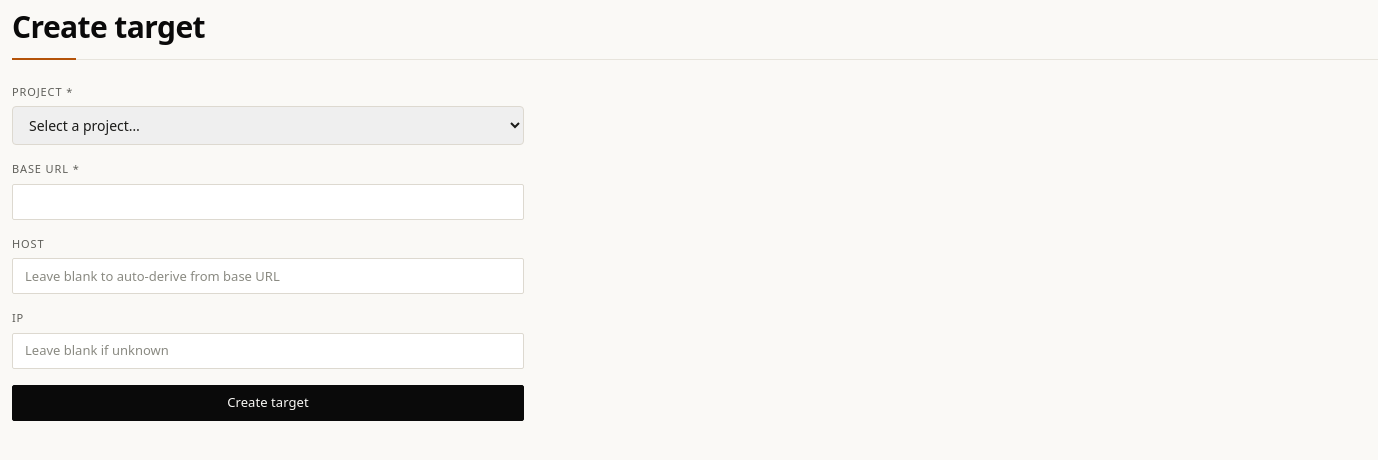
Scenario: CreateTarget — server errors › renders a server field error on the project field
Select "Local Lab" in the dropdown labelled "Project *" at (268,126), box [12,106,524,145]
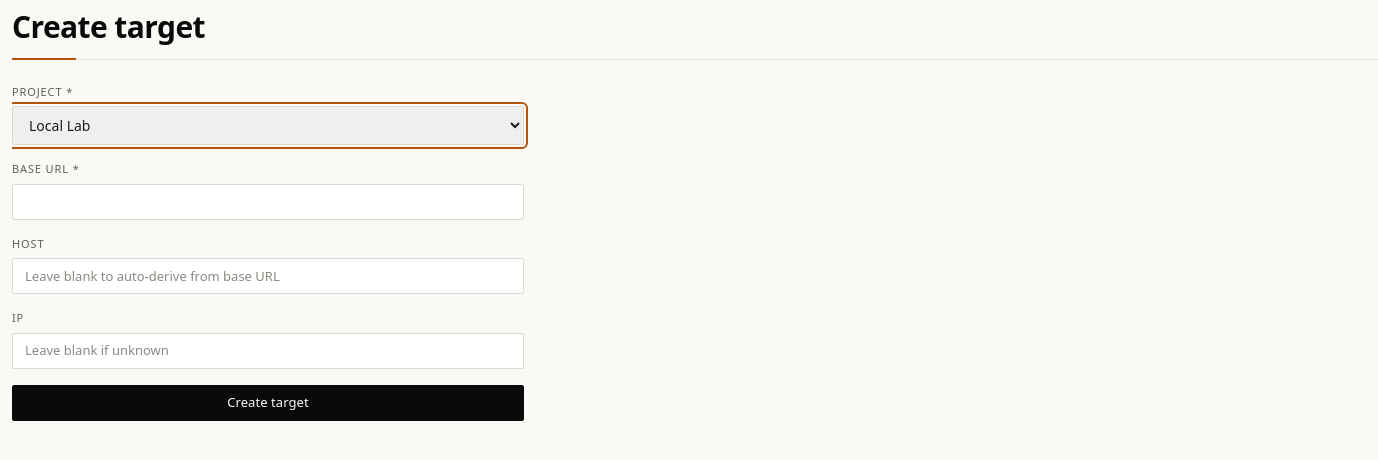
Type "https://dvwa.cocode.dk" into the field labelled "Base URL *" at (268,202), box [12,184,524,220]
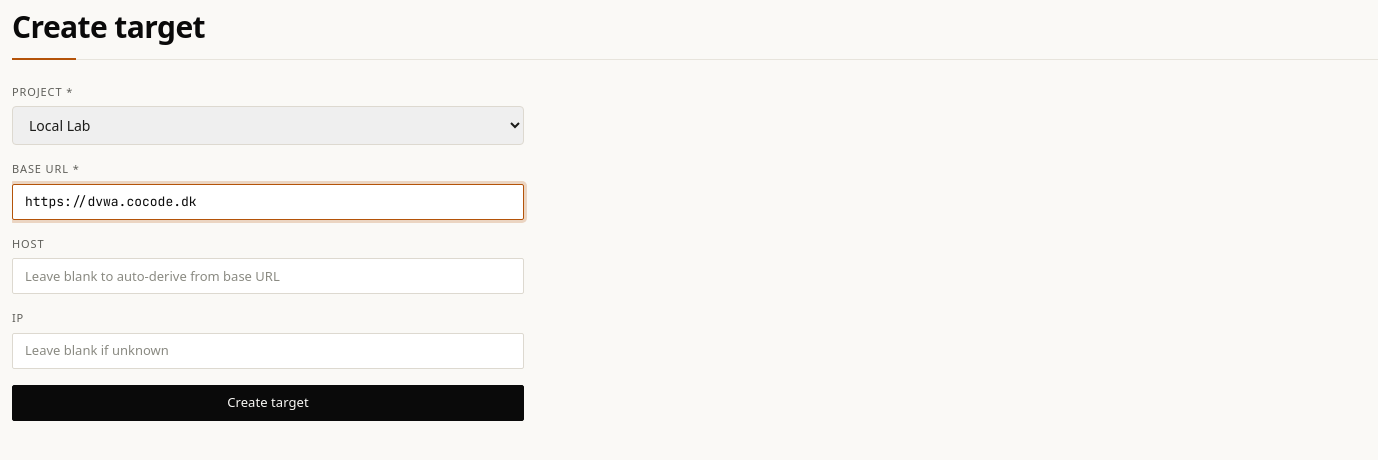
Click the button "Create target" at (268,402), box [12,384,524,420]
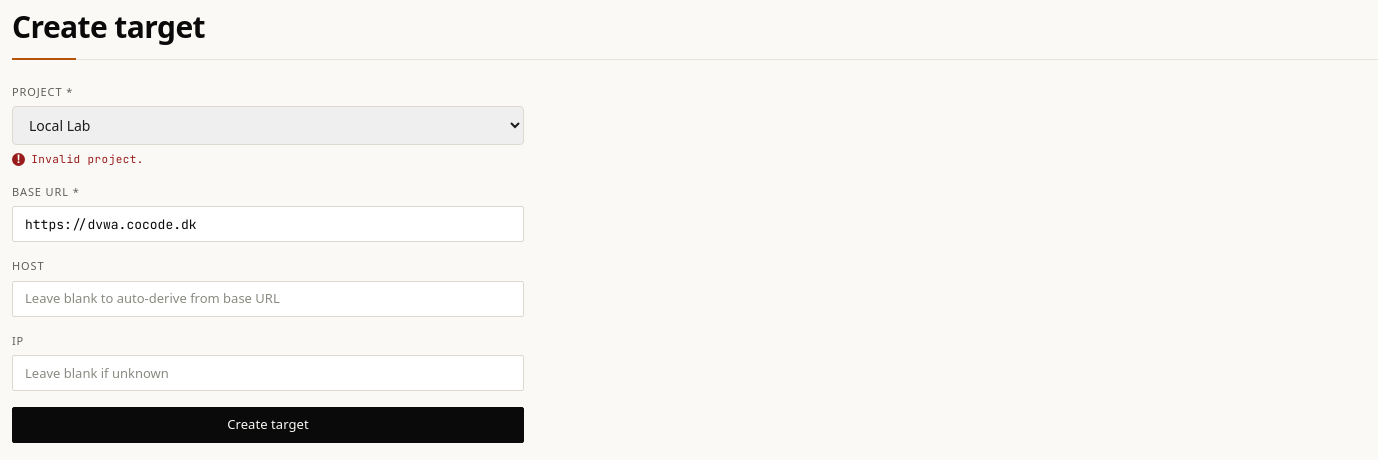
Now the text "Invalid project." is shown, box [31,152,144,166]
